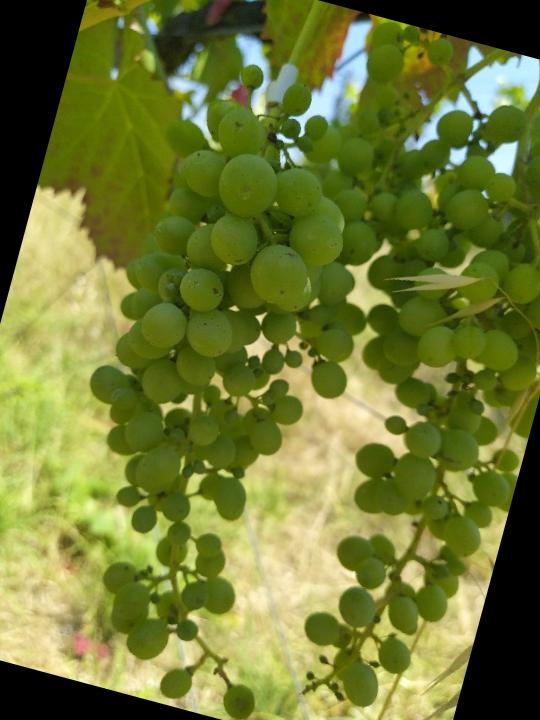grape: (10, 43, 421, 720)
